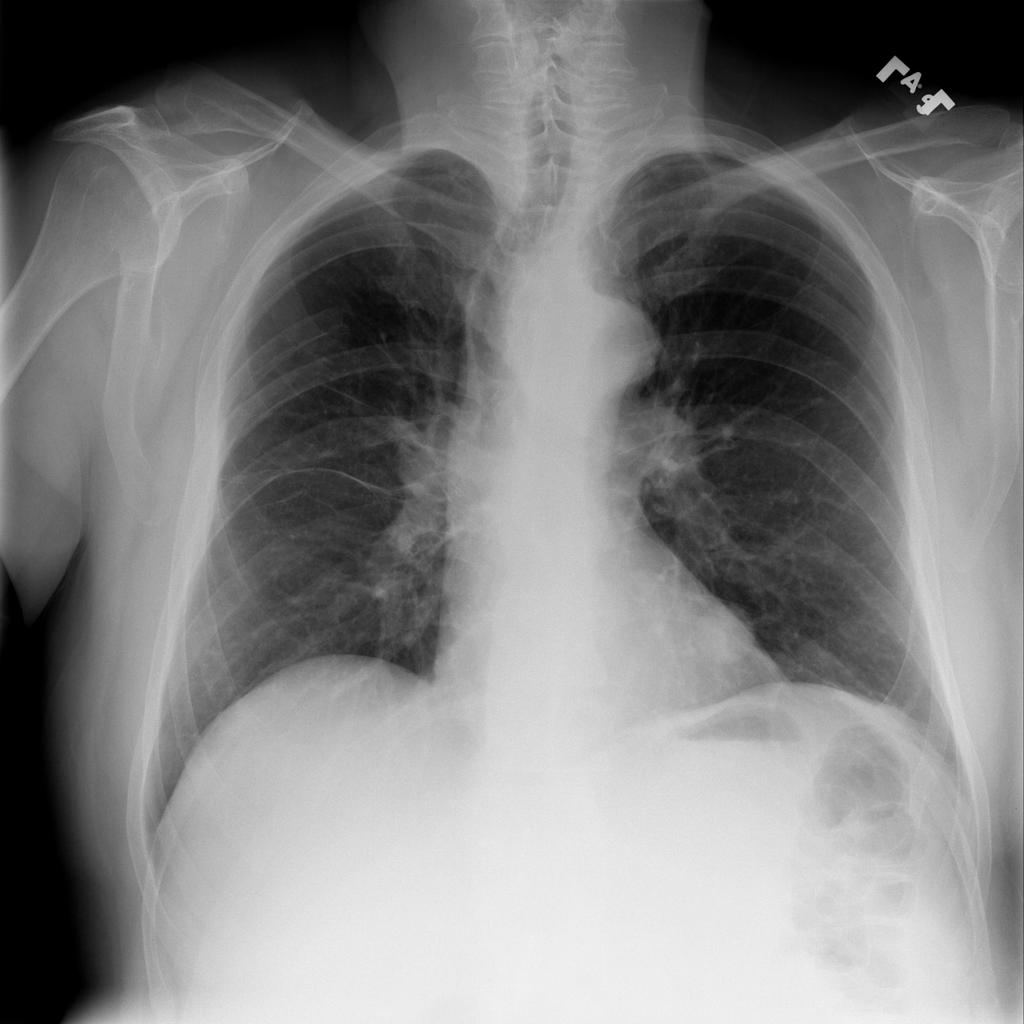nodule: (672, 576, 779, 687)
